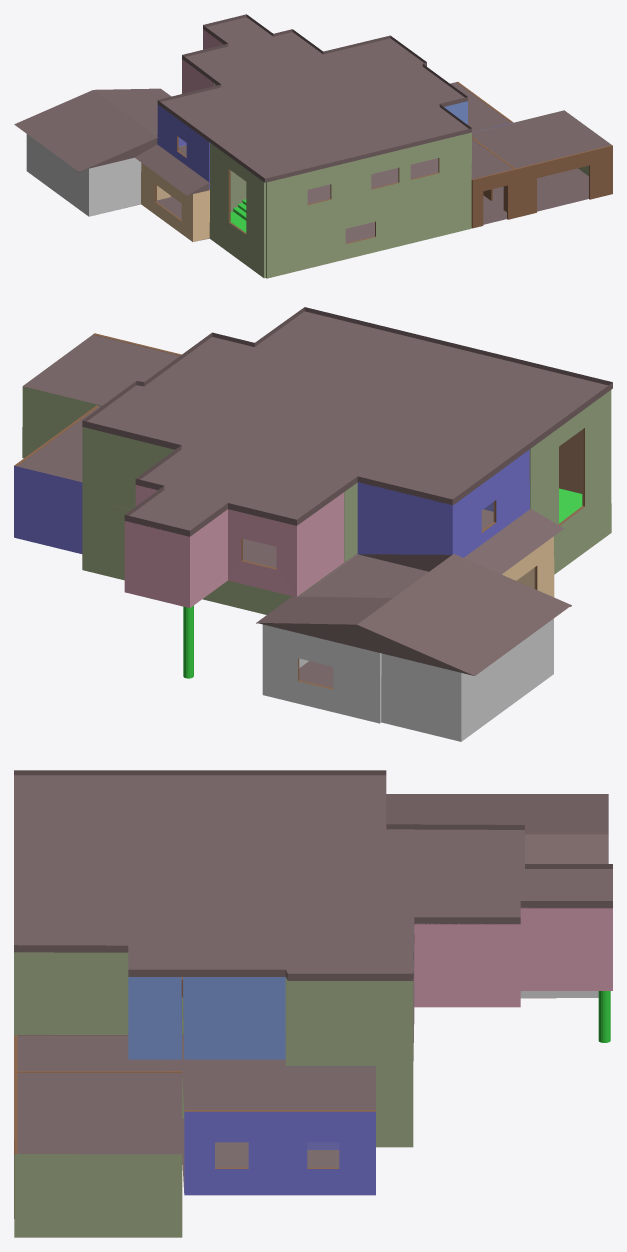
The model's file is House_Carcass.fbx.
3 renders of one model, top to bottom at view 1: azimuth 30°, elevation 25°; view 2: azimuth 150°, elevation 25°; view 3: azimuth 270°, elevation 25°, orthographic. The views are drawn at different scales.
Parts seen in each view (by area): view 1: Cylinder; view 2: Cylinder; view 3: Cylinder.
Boxes of the visible parts, <box> form: Cylinder: <box>14,14,612,278</box>; Cylinder: <box>14,307,612,741</box>; Cylinder: <box>14,770,612,1237</box>.
Size of the model in its own units: 35.26 by 7.92 by 24.75.
